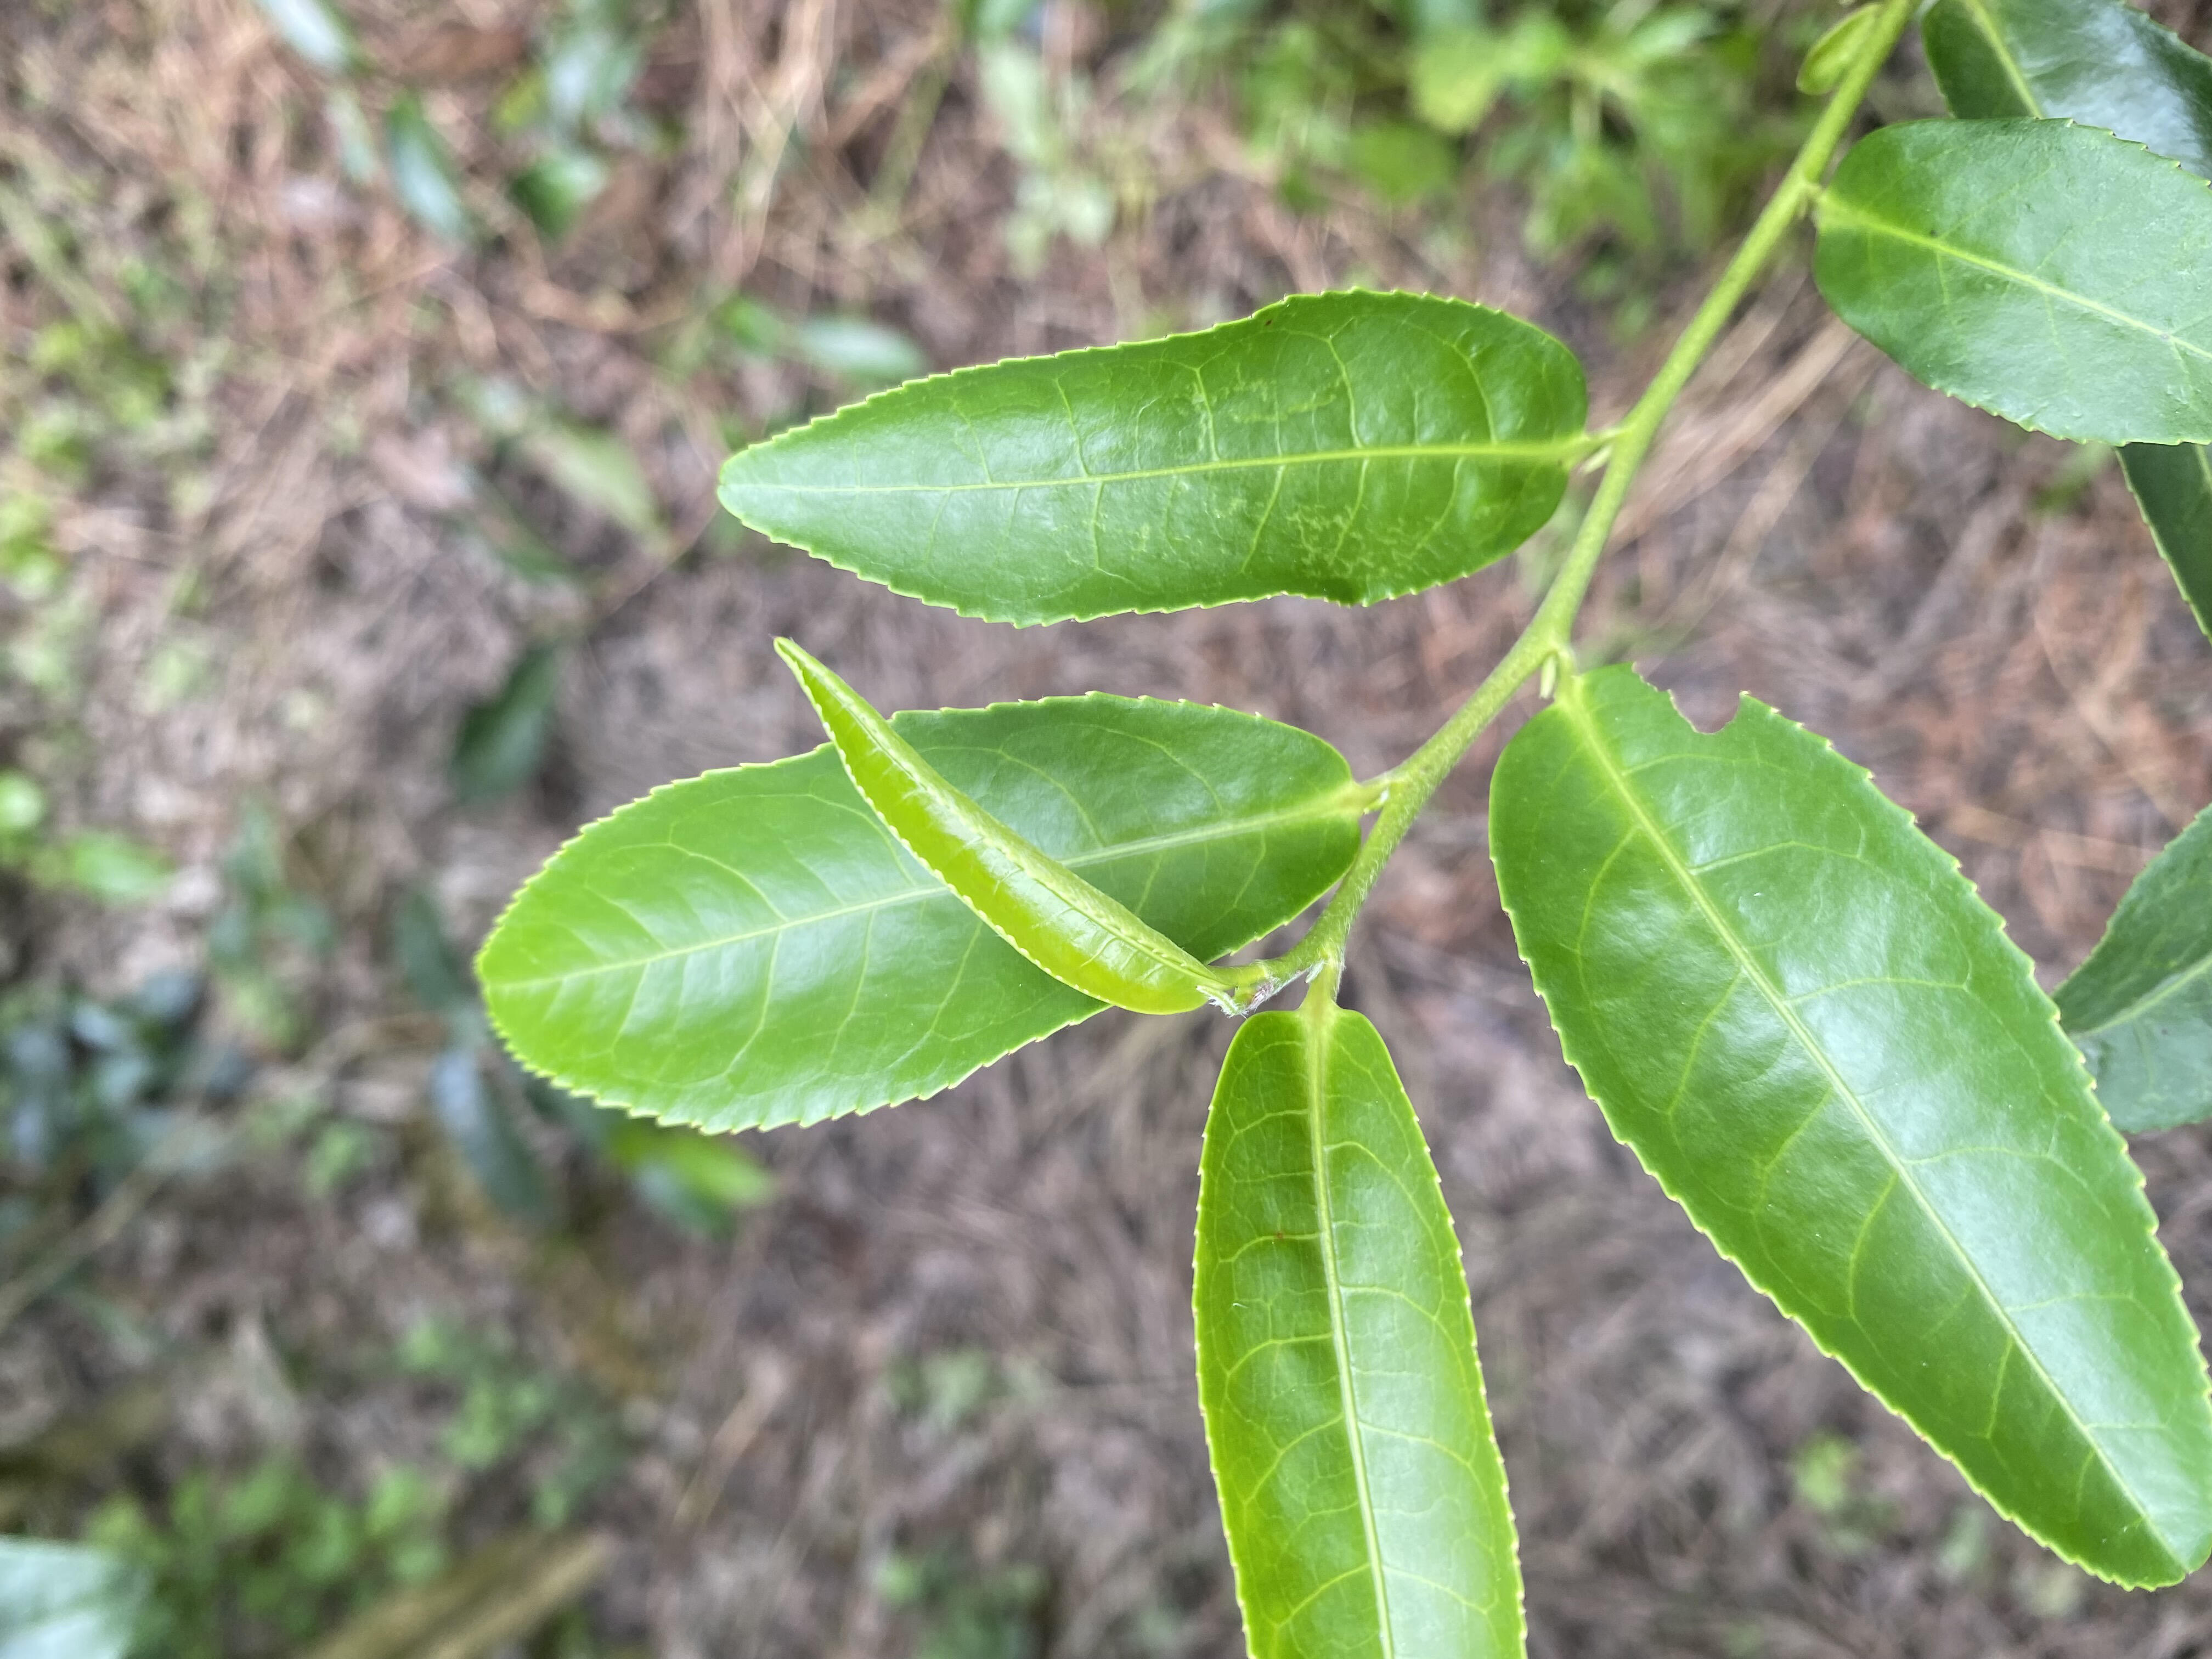chihuo_low: (1486, 659, 2212, 1593)
healthy: (474, 688, 1364, 1138), (711, 291, 1592, 631), (1190, 1006, 1531, 1656), (772, 633, 1223, 1014), (1806, 117, 2210, 448)
